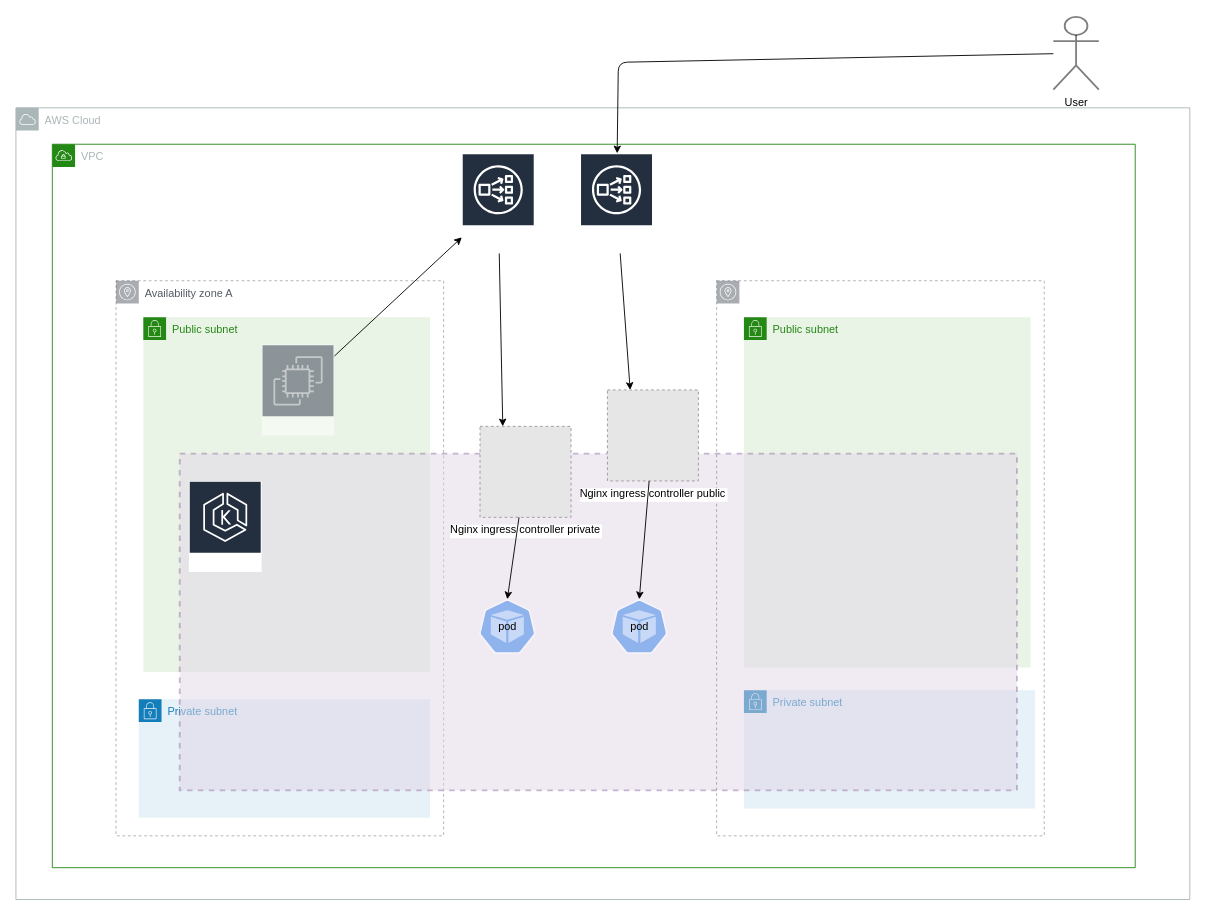
The diagram is 1206 pixels wide and 915 high, and some of its shapes have lost their labels. Grey dashed boxes stand in for pictures. The shapes that lost their labels are listed below. From the top down, each one's box as (x1, y1, x2, y2) in pixels, then its label:
(461, 152, 535, 253): Network Load Balancer private
(579, 152, 653, 253): Network Load Balancer public
(261, 344, 334, 435): Amazon EC2
(188, 480, 262, 572): Amazon EKS
(716, 280, 1044, 836): Availability zone B
